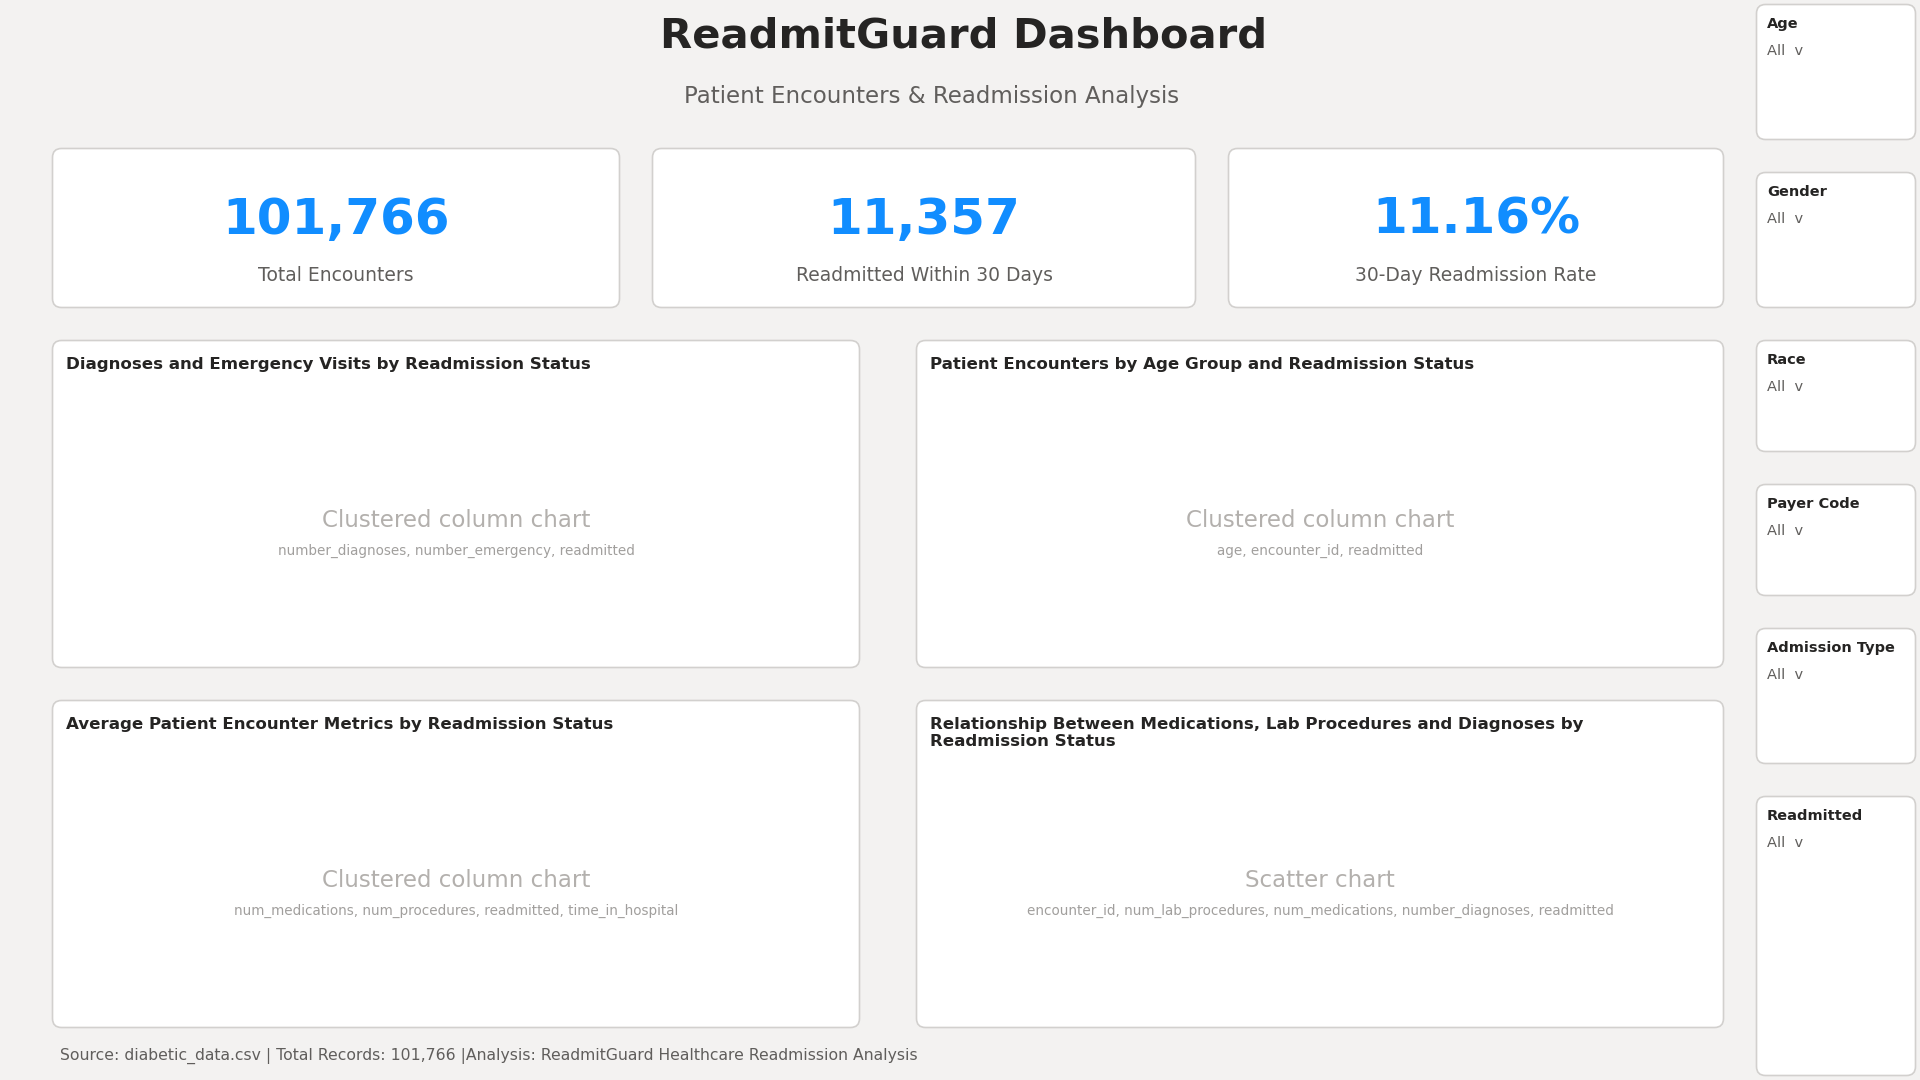

Layout of this report page (visuals, bound fields, positions):
{"tool":"powerbi","page":{"name":"Page 1","canvas":[1280,720],"ordinal":0},"visuals":[{"type":"clusteredColumnChart","title":"Diagnoses and Emergency Visits by Readmission Status.","fields":{"Category":["diabetic_data.readmitted"],"Y":["Sum(diabetic_data.number_emergency)","Sum(diabetic_data.number_diagnoses)"]},"box":[32,224,544,224],"z":0},{"type":"clusteredColumnChart","title":"Patient Encounters by Age Group and Readmission Status","fields":{"Category":["diabetic_data.age"],"Y":["CountNonNull(diabetic_data.encounter_id)"],"Series":["diabetic_data.readmitted"]},"box":[608,224,544,224],"z":1},{"type":"clusteredColumnChart","title":"Average Patient Encounter Metrics by Readmission Status","fields":{"Category":["diabetic_data.readmitted"],"Y":["Avg(diabetic_data.num_medications)","Avg(diabetic_data.num_procedures)","Avg(diabetic_data.time_in_hospital)"]},"box":[32,464,544,224],"z":2},{"type":"scatterChart","title":"Relationship Between Medications, Lab Procedures and Diagnoses by Readmission Status.","fields":{"X":["diabetic_data.num_medications"],"Size":["Sum(diabetic_data.number_diagnoses)"],"Y":["diabetic_data.num_lab_procedures"],"Series":["diabetic_data.readmitted"]},"box":[608,464,544,224],"z":3},{"type":"cardVisual","fields":{"Data":["_Measures.Total Encounters Display"]},"box":[32,96,384,112],"z":4},{"type":"cardVisual","fields":{"Data":["_Measures.30-Day Readmission Rate"]},"box":[816,96,336,112],"z":5},{"type":"cardVisual","fields":{"Data":["_Measures.Readmitted Within 30 Days"]},"box":[432,96,368,112],"z":6},{"type":"textbox","box":[432,0,432,48],"z":7},{"type":"textbox","box":[448,48,416,32],"z":8},{"type":"slicer","fields":{"Values":["diabetic_data.age"]},"box":[1168,0,112,96],"z":9},{"type":"slicer","fields":{"Values":["diabetic_data.gender"]},"box":[1168,112,112,96],"z":10},{"type":"slicer","fields":{"Values":["diabetic_data.race"]},"box":[1168,224,112,80],"z":11},{"type":"slicer","fields":{"Values":["diabetic_data.payer_code"]},"box":[1168,320,112,80],"z":12},{"type":"slicer","fields":{"Values":["diabetic_data.admission_type_id"]},"box":[1168,416,112,96],"z":13},{"type":"slicer","fields":{"Values":["diabetic_data.readmitted"]},"box":[1168,528,112,192],"z":14},{"type":"textbox","box":[32,688,1120,32],"z":15}]}

Visuals, with their boxes in screenshot pixels (x1, y1, x2, y2), scaled from the page's 1280x720 canvas onto the 1920x1080 screenshot:
"Diagnoses and Emergency Visits by Readmission Status." clusteredColumnChart: 48, 336, 864, 672
"Patient Encounters by Age Group and Readmission Status" clusteredColumnChart: 912, 336, 1728, 672
"Average Patient Encounter Metrics by Readmission Status" clusteredColumnChart: 48, 696, 864, 1032
"Relationship Between Medications, Lab Procedures and Diagnoses by Readmission Status." scatterChart: 912, 696, 1728, 1032
cardVisual - _Measures.Total Encounters Display: 48, 144, 624, 312
cardVisual - _Measures.30-Day Readmission Rate: 1224, 144, 1728, 312
cardVisual - _Measures.Readmitted Within 30 Days: 648, 144, 1200, 312
textbox: 648, 0, 1296, 72
textbox: 672, 72, 1296, 120
slicer - diabetic_data.age: 1752, 0, 1919, 144
slicer - diabetic_data.gender: 1752, 168, 1919, 312
slicer - diabetic_data.race: 1752, 336, 1919, 456
slicer - diabetic_data.payer_code: 1752, 480, 1919, 600
slicer - diabetic_data.admission_type_id: 1752, 624, 1919, 768
slicer - diabetic_data.readmitted: 1752, 792, 1919, 1079
textbox: 48, 1032, 1728, 1079
